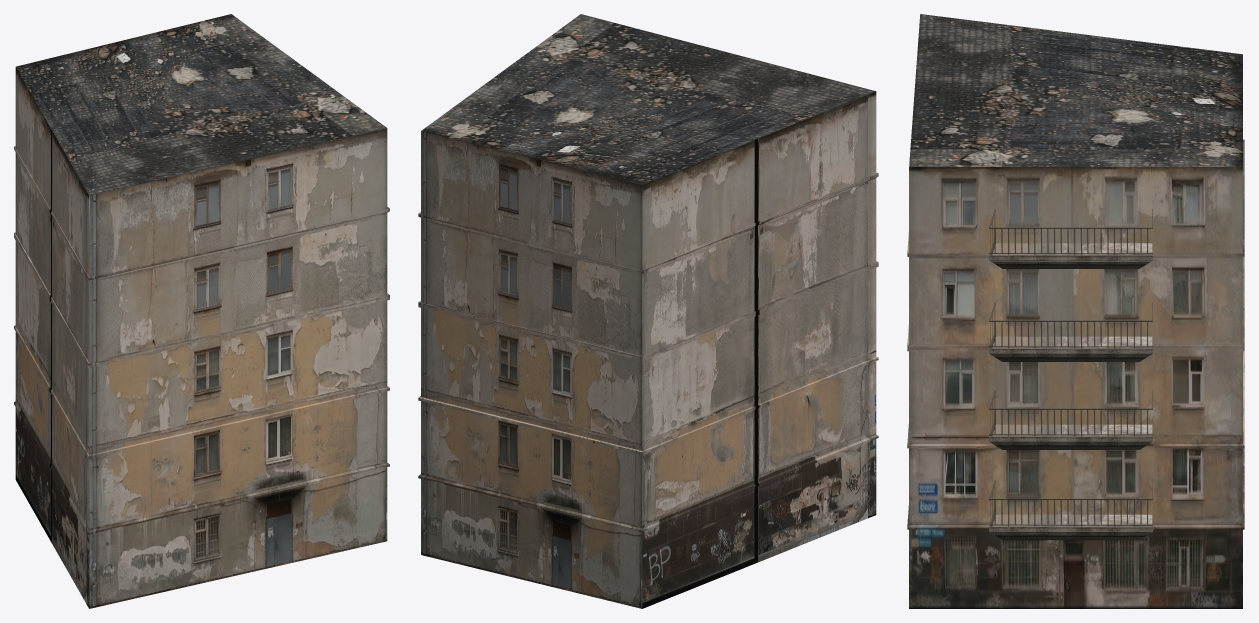
The model's file is building.glb.
3 views of the same model, side by side, from view 1: azimuth 30°, elevation 25°; view 2: azimuth 150°, elevation 25°; view 3: azimuth 270°, elevation 25° (orthographic). The views are drawn at different scales.
Parts seen in each view (by area): view 1: polySurface8; view 2: polySurface8; view 3: polySurface8.
Part boxes in pixels (box(x1,y1,x2,y2)): polySurface8: box(14, 14, 389, 608); polySurface8: box(418, 14, 878, 608); polySurface8: box(907, 14, 1244, 608).
Bounding box in the file's own units: 0.1174 × 0.1404 × 0.0972.
5 materials, 5 textured.
